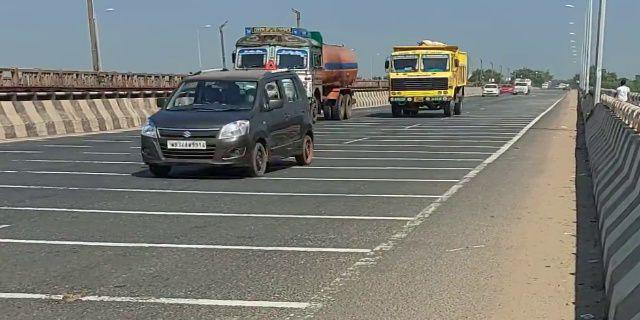Car: (138, 66, 314, 178)
Truck: (233, 23, 361, 122), (381, 38, 469, 119)
